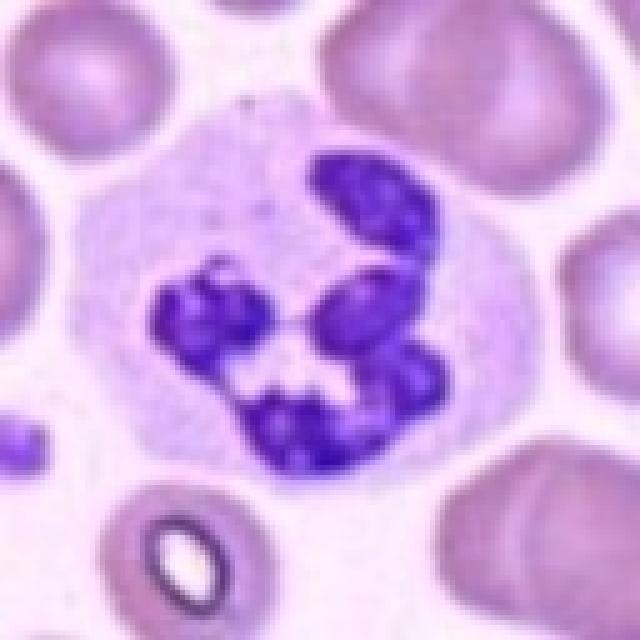neutro: (71, 109, 511, 554)
